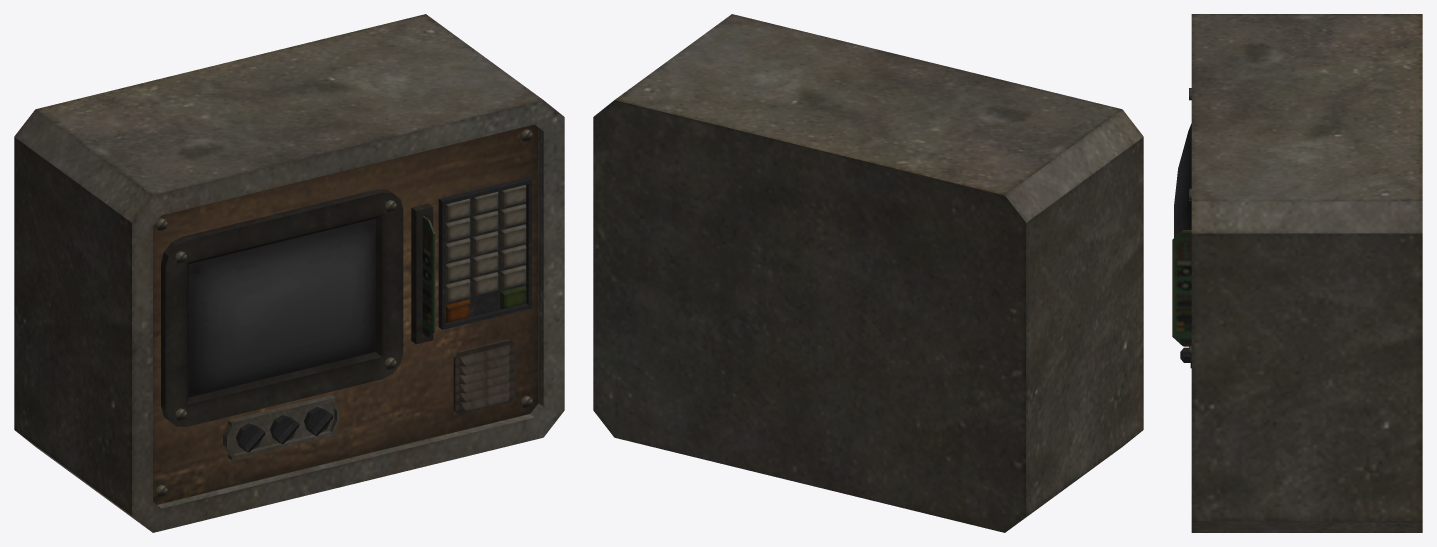
The model's file is computer_terminal_etx_1.obj.
The picture shows the model from 3 angles, left to right: view 1: azimuth 30°, elevation 25°; view 2: azimuth 150°, elevation 25°; view 3: azimuth 270°, elevation 25°; orthographic projection.
Visible parts, largest first — view 1: computer_terminal_etx_1, computer_terminal_etx_1_round_screen, circuit_board_etx_1_child; view 2: computer_terminal_etx_1; view 3: computer_terminal_etx_1, circuit_board_etx_1_child, computer_terminal_etx_1_round_screen.
Part boxes in pixels (x1,y1,x2,y2): computer_terminal_etx_1: (14,14,564,532); computer_terminal_etx_1_round_screen: (188,218,375,397); circuit_board_etx_1_child: (422,216,435,337); computer_terminal_etx_1: (593,14,1143,532); computer_terminal_etx_1: (1189,14,1422,532); circuit_board_etx_1_child: (1172,230,1191,346); computer_terminal_etx_1_round_screen: (1174,123,1191,237).
Bounding box in the file's own units: 0.918 × 0.684 × 0.468.
